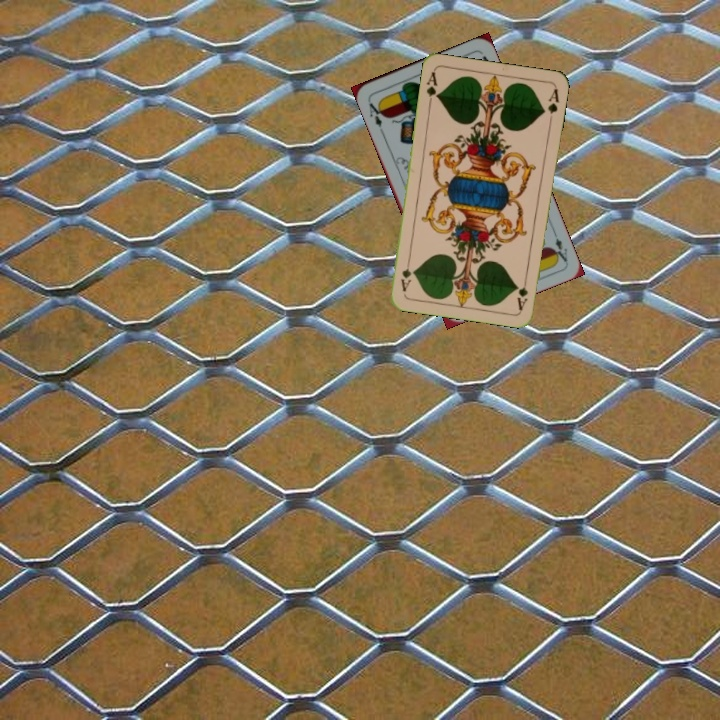EA: (548, 225, 570, 265), (364, 96, 387, 130)
GA: (422, 68, 441, 108), (513, 272, 530, 312)
